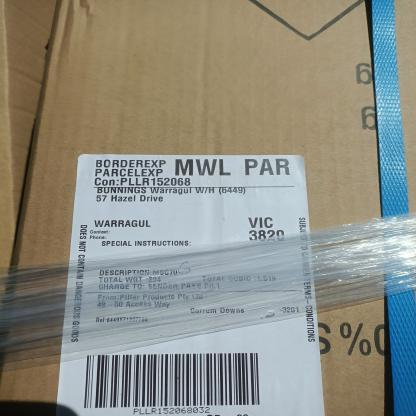label: (56, 152, 328, 416)
package: (0, 0, 396, 416)
